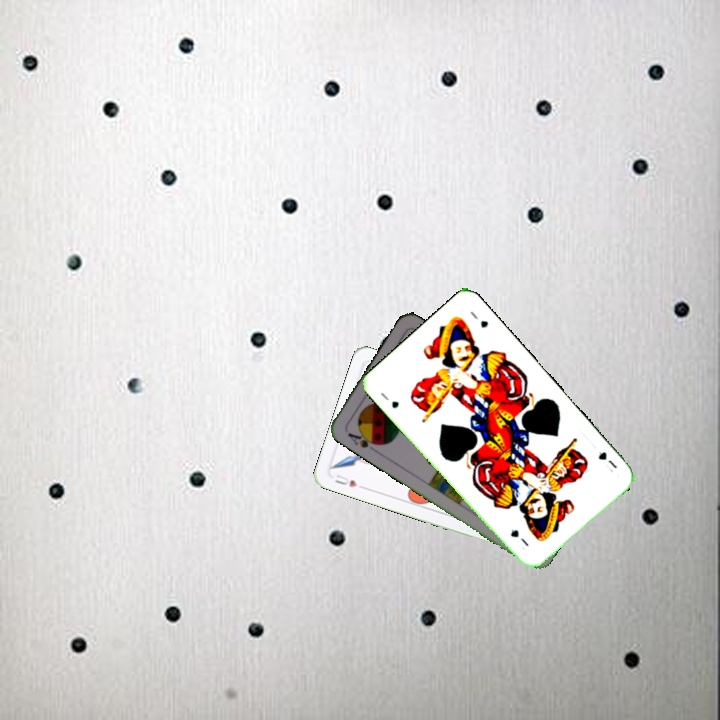GU: (594, 447, 620, 475), (376, 388, 402, 411)
HU: (331, 470, 367, 491)
SA: (343, 427, 382, 454)
